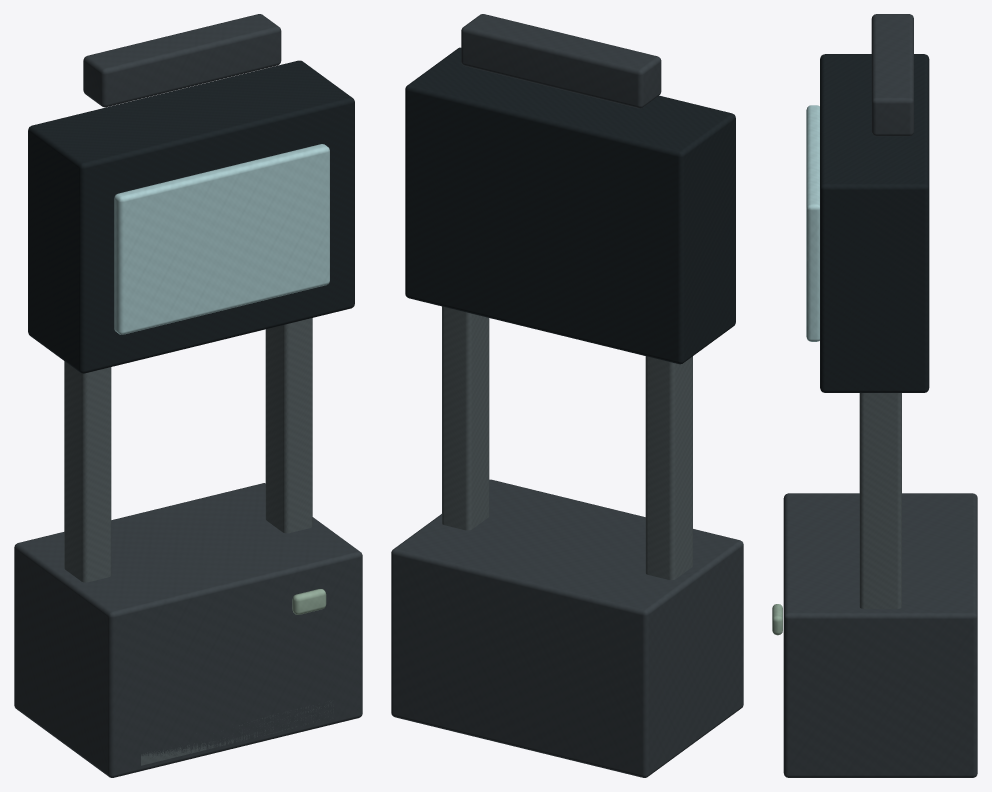
File: PortableWorkLight.fbx
3 views of the same model, side by side, from view 1: azimuth 30°, elevation 25°; view 2: azimuth 150°, elevation 25°; view 3: azimuth 270°, elevation 25° (orthographic). The views are drawn at different scales.
Parts seen in each view (by area): view 1: PortableWorkLight_Mesh; view 2: PortableWorkLight_Mesh; view 3: PortableWorkLight_Mesh.
Boxes of the visible parts, bbox=[...] form: PortableWorkLight_Mesh: bbox=[14, 14, 362, 777]; PortableWorkLight_Mesh: bbox=[391, 14, 743, 777]; PortableWorkLight_Mesh: bbox=[772, 14, 977, 777].
Bounding box in the file's own units: 52 × 120 × 33.9.
5 materials, 5 textured.
